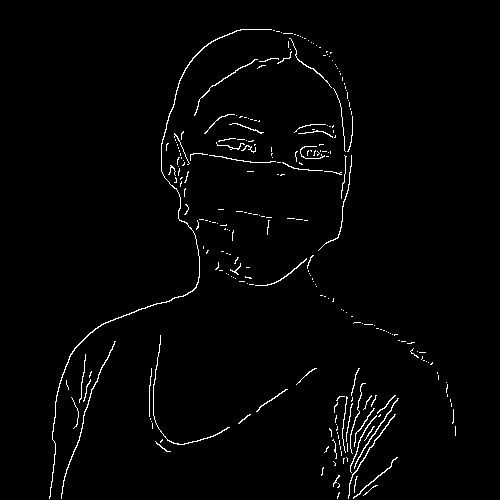mask: (179, 152, 352, 293)
